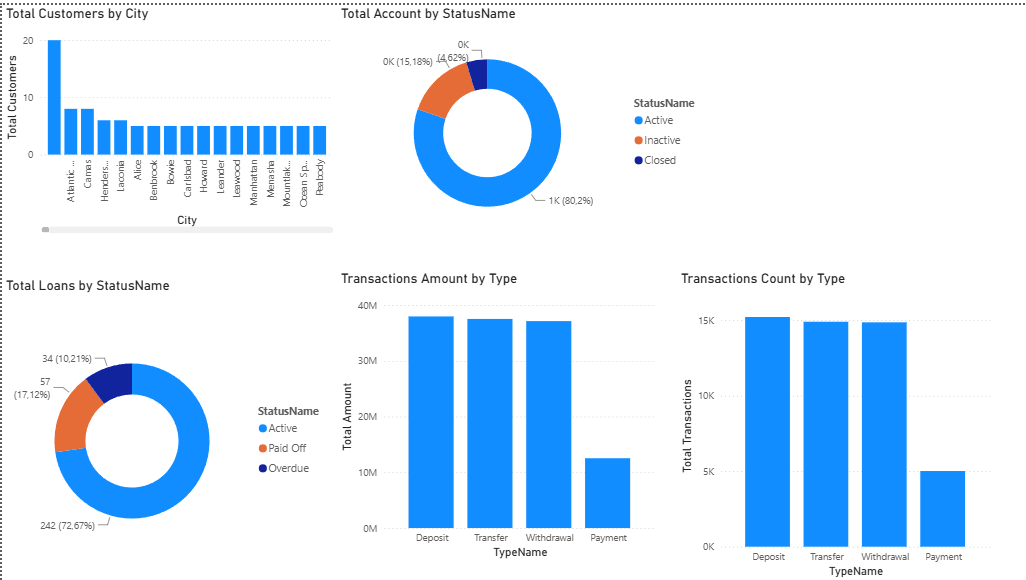

What the dashboard file says about the page in this screenshot:
{"tool":"powerbi","page":{"name":"Customers","canvas":[1280,720],"ordinal":1},"visuals":[{"type":"clusteredColumnChart","title":"Transactions Amount by Type","fields":{"Category":["transaction_types.TypeName"],"Y":["transactions.Total Amount"]},"box":[418.9,331.1,403.3,365.6],"z":0},{"type":"clusteredColumnChart","title":"Transactions Count  by Type","fields":{"Category":["transaction_types.TypeName"],"Y":["transactions.Total Transactions"]},"box":[843.3,331.1,396.7,388.9],"z":1000},{"type":"donutChart","fields":{"Category":["account_statuses.StatusName"],"Y":["accounts.Total Account"]},"box":[419.1,0,470,290],"z":2000},{"type":"donutChart","fields":{"Category":["loan_statuses.StatusName"],"Y":["loans.Total Loans"]},"box":[0,340,418.9,380],"z":3000},{"type":"columnChart","fields":{"Category":["addresses.City"],"Y":["customers.Total Customers"]},"box":[0,0,419,290],"z":4000}]}

Visuals, with their boxes in screenshot pixels (x1, y1, x2, y2), scaled from the page's 1280x720 canvas onto the 1026x580 screenshot:
"Transactions Amount by Type" clusteredColumnChart: 336:267:659:561
"Transactions Count  by Type" clusteredColumnChart: 676:267:994:579
donutChart - account_statuses.StatusName x accounts.Total Account: 336:0:713:234
donutChart - loan_statuses.StatusName x loans.Total Loans: 0:274:336:579
columnChart - addresses.City x customers.Total Customers: 0:0:336:234
